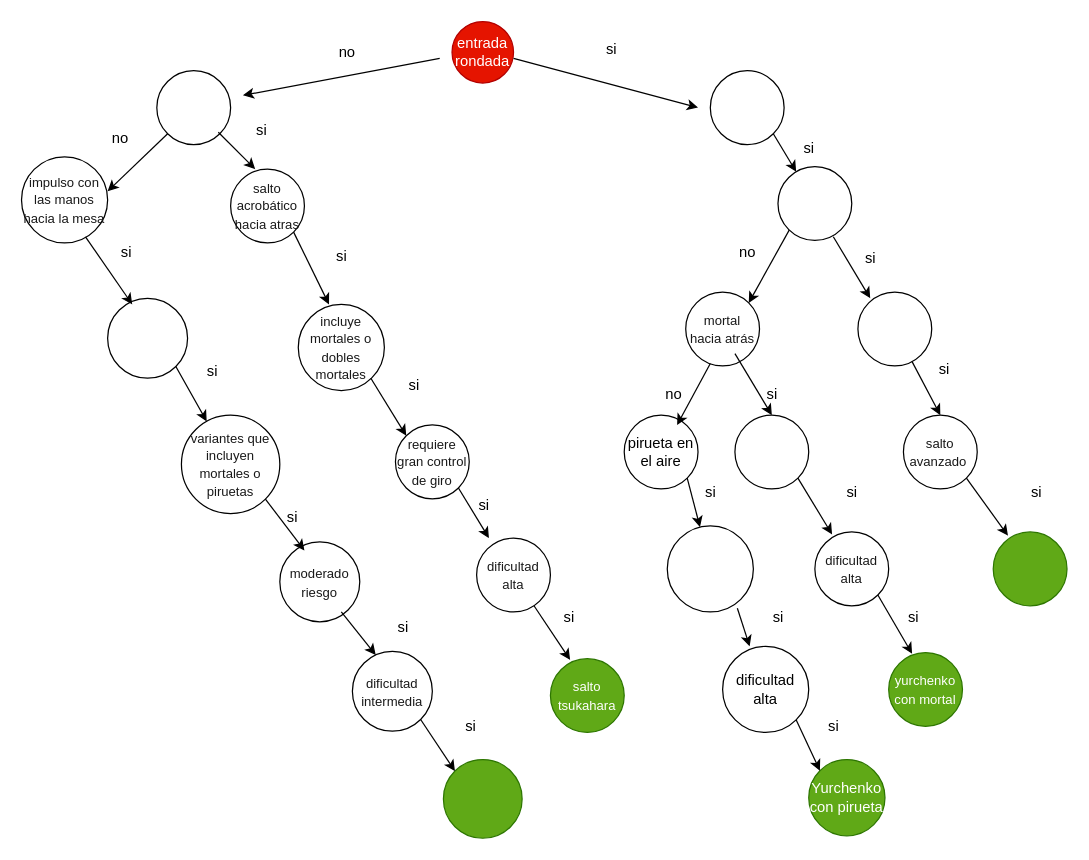
This 1089x860 diagram has some shape labels left out. The centre of each missing label's shape, as x and y in pixels:
"alta coordinación y técnica" goes at [709,568].
"combinación de giros" goes at [894,328].
"entrada cuarto de giro" goes at [193,107].
"flic-flac hacia la mesa" goes at [746,107].
"gran impulso y control" goes at [771,451].
"salto acrobacia hacia atrás" goes at [814,202].
"salto hacia adelante" goes at [147,337].
"salto handspring" goes at [482,798].
"salto yurchenko" goes at [1029,568].
